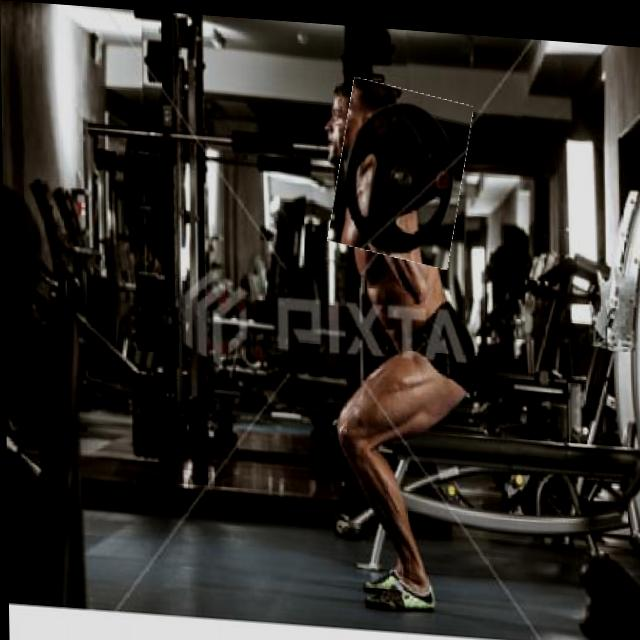barbell: (333, 76, 470, 261)
